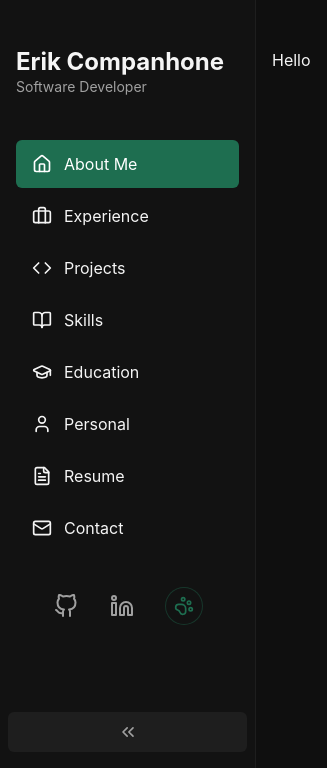
Scenario: Layout › toggles sidebar collapsed state
Collapse button has aria-label that changes
Click the button named "Collapse sidebar" at x=128, y=732, box [8,712,247,752]
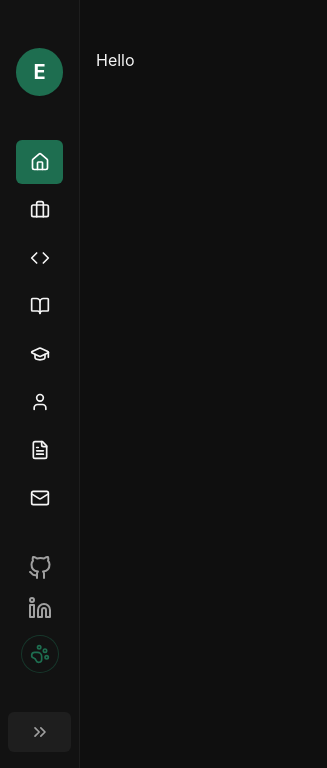
Check: the button named "Expand sidebar" is shown, box [8,712,71,752]
